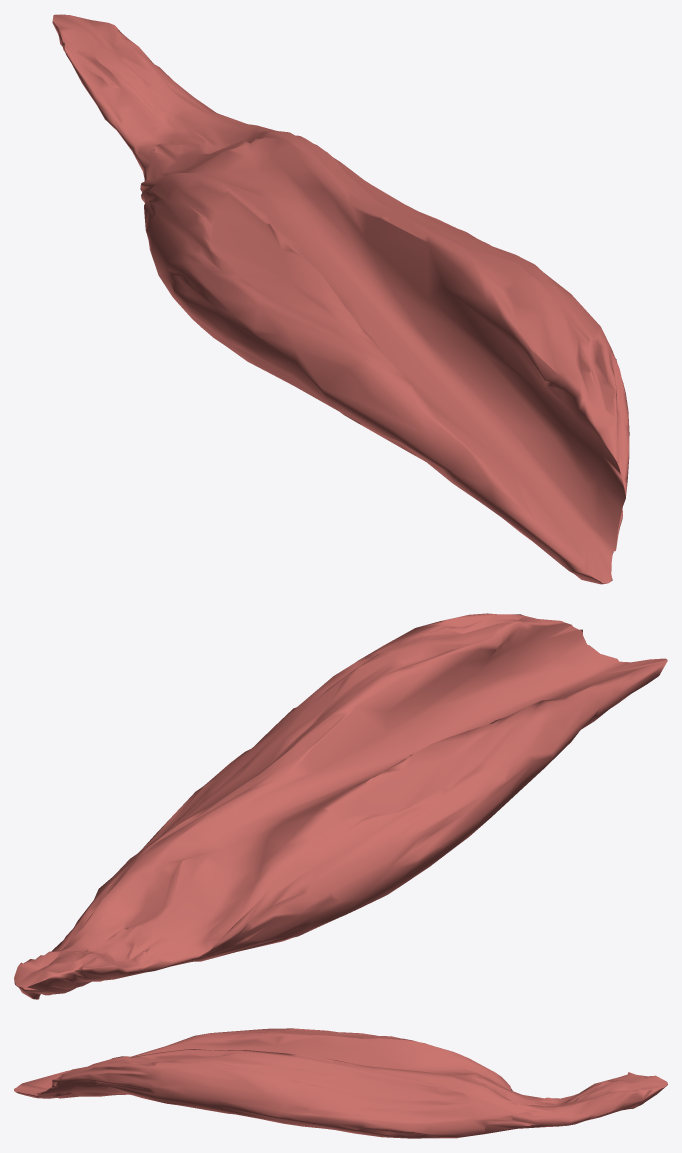
3 renders of one model, top to bottom at view 1: azimuth 30°, elevation 25°; view 2: azimuth 150°, elevation 25°; view 3: azimuth 270°, elevation 25°, orthographic. The views are drawn at different scales.
Visible parts, largest first — view 1: 左侧肱肌; view 2: 左侧肱肌; view 3: 左侧肱肌.
Part boxes in pixels (x1,y1,x2,y2): 左侧肱肌: (52, 14, 629, 584); 左侧肱肌: (14, 613, 667, 999); 左侧肱肌: (14, 1028, 667, 1138).
Bounding box in the file's own units: 0.0897 × 0.04 × 0.3423.
